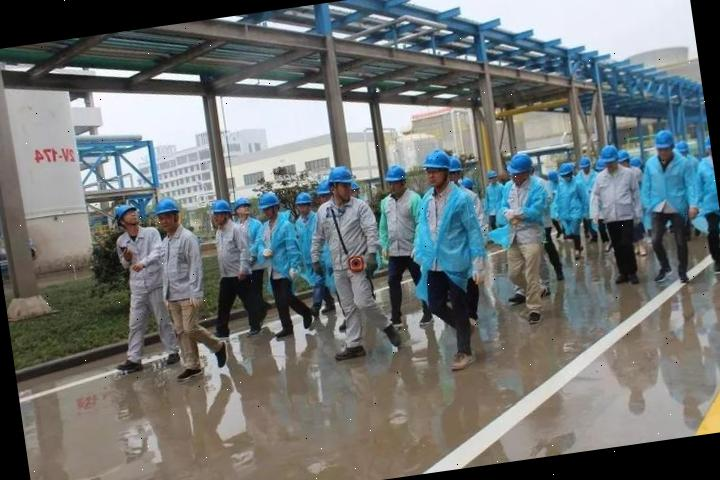helmet: (317, 163, 357, 190), (416, 146, 452, 174), (502, 150, 534, 175), (381, 160, 408, 184), (150, 196, 180, 217), (651, 127, 678, 150), (256, 190, 280, 208), (292, 190, 314, 204)
no_wear: (137, 229, 203, 308), (501, 178, 556, 250), (316, 198, 370, 266), (377, 192, 425, 259), (217, 216, 266, 278), (116, 228, 158, 270)
wear: (137, 229, 203, 308), (316, 198, 370, 266), (591, 162, 648, 226), (115, 228, 162, 298), (377, 192, 425, 259), (209, 219, 258, 280)
